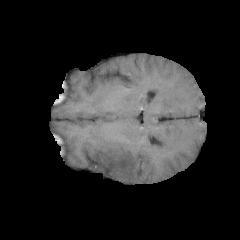glioma: (92, 142, 139, 179)
